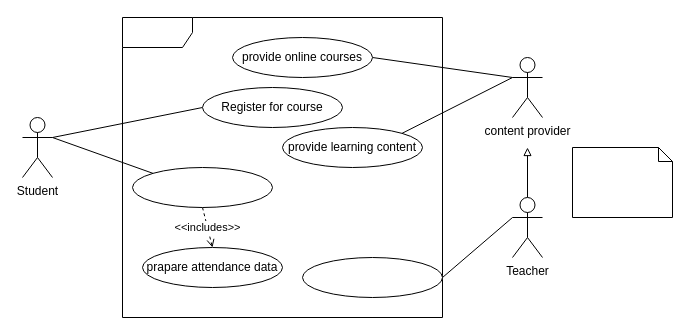
The diagram is 690 pixels wide and 335 high, and some of its shapes have lost their labels. The box of each missing label's shape, as (x1, y1, x2, y2) in pixels:
Brightspace: (122, 16, 442, 318)
check attendance: (132, 166, 272, 208)
generalisation is an inheritance type relationship: (572, 146, 672, 218)
Mark Assessment: (302, 256, 442, 298)
